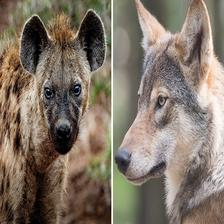hyena: (114, 0, 224, 224), (0, 7, 107, 224)
